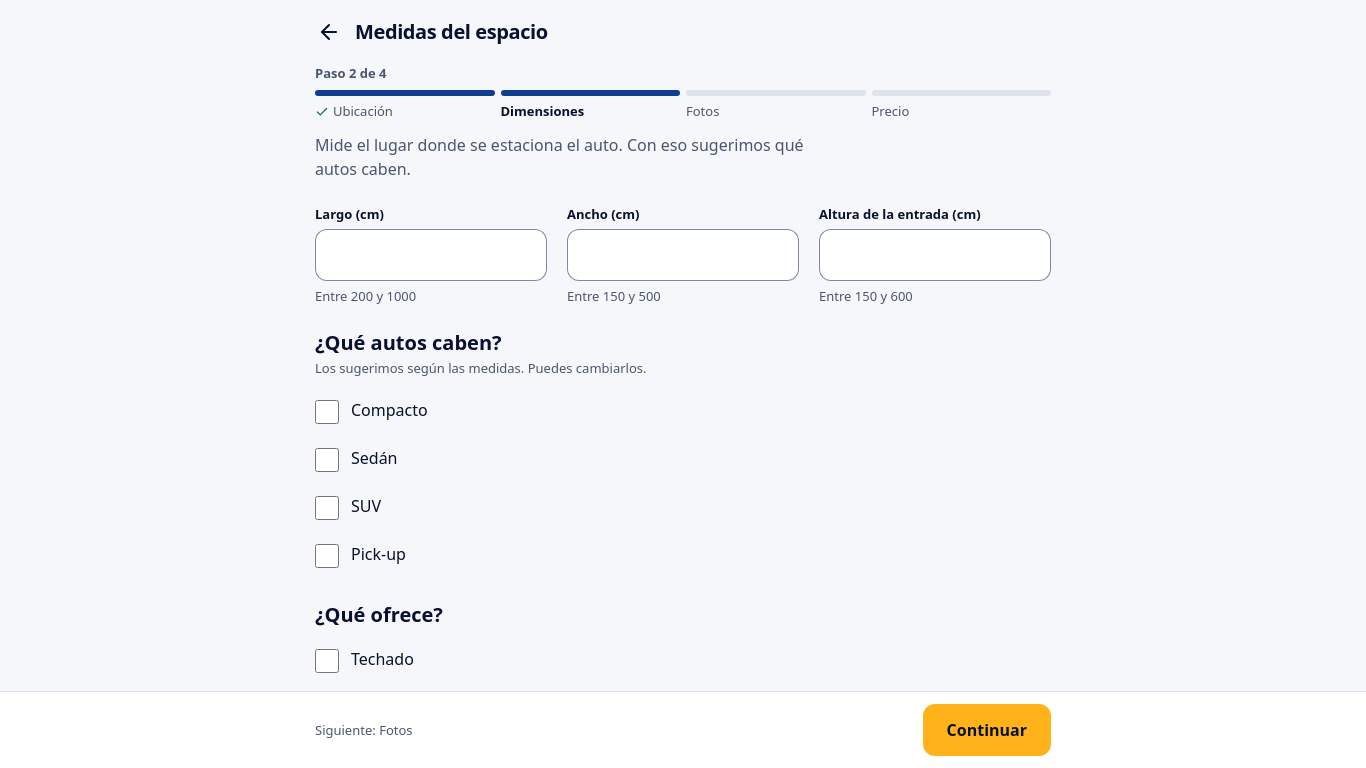
Test: size step › shows what is wrong with a measurement before moving on
expect the heading "Medidas del espacio" is shown: met, box [355,18,548,45]
In the field labelled "Largo (cm)": {"x": 431, "y": 255} [331,229,531,281], type "520"
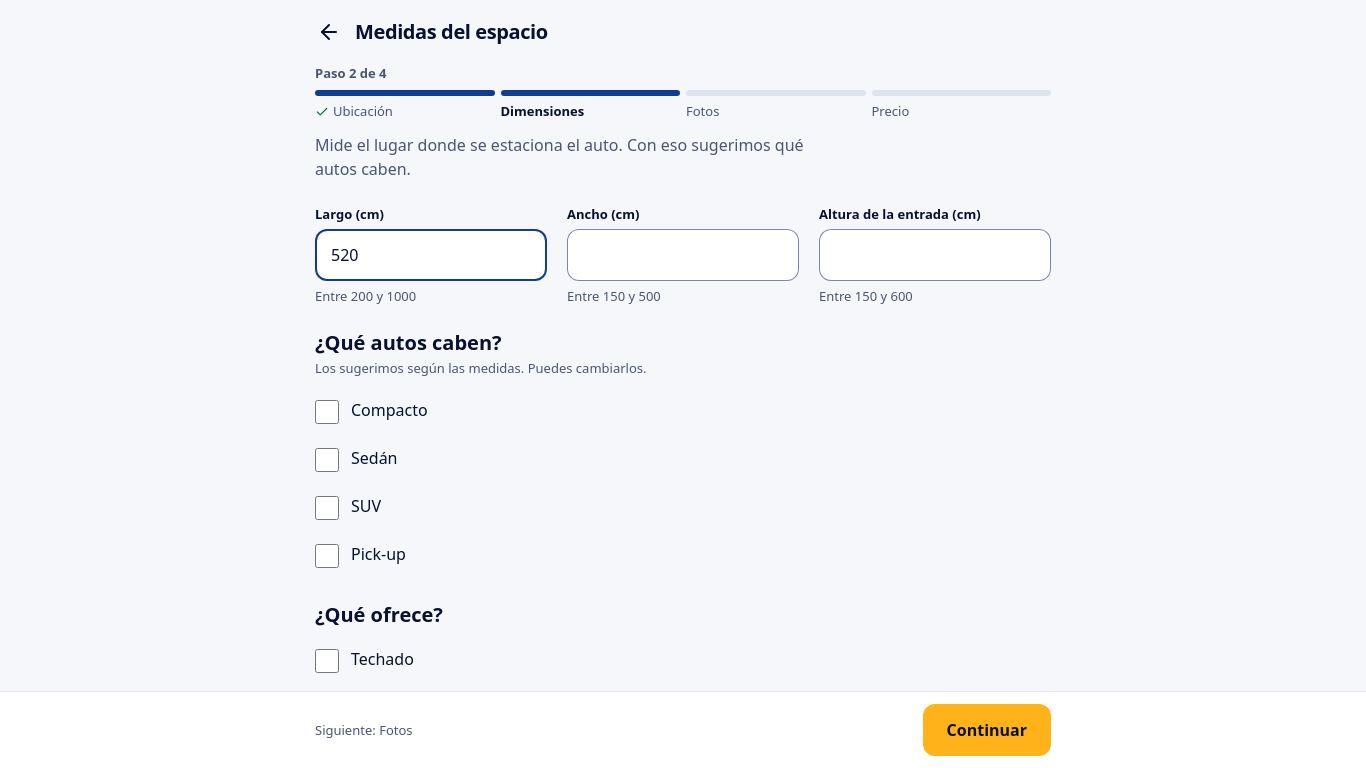
Click the button "Continuar": {"x": 987, "y": 730} [923,704,1051,756]
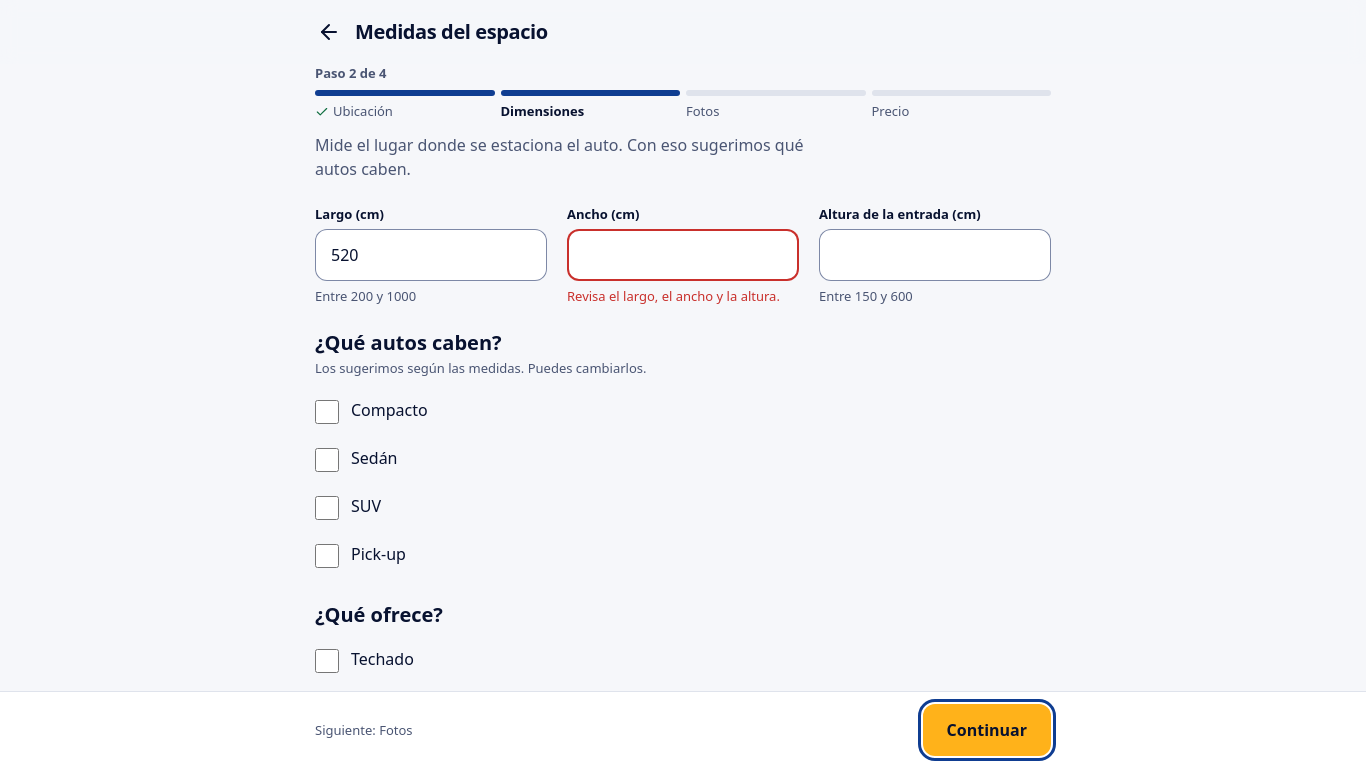
expect the message reads "Revisa el largo, el ancho y la altura.": met, box [567,287,780,305]
